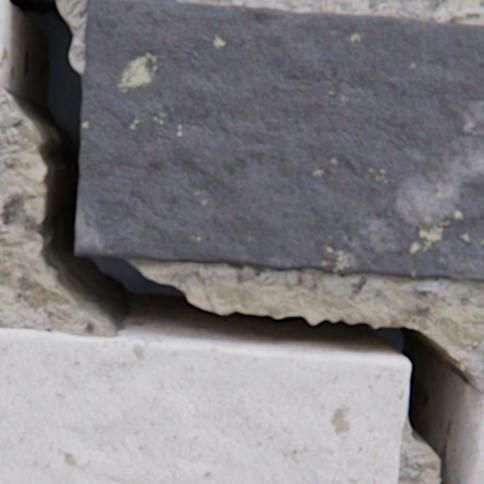brick: (75, 0, 483, 282), (0, 328, 408, 483), (470, 384, 483, 483), (0, 0, 4, 82)
crack: (0, 0, 482, 483)
